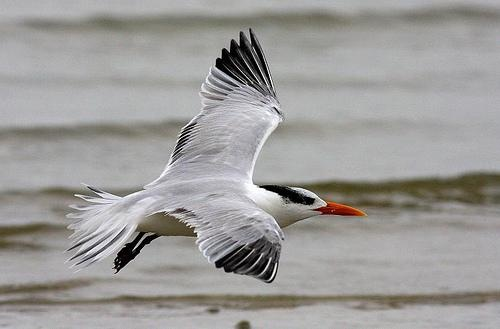bird: (60, 30, 370, 284)
